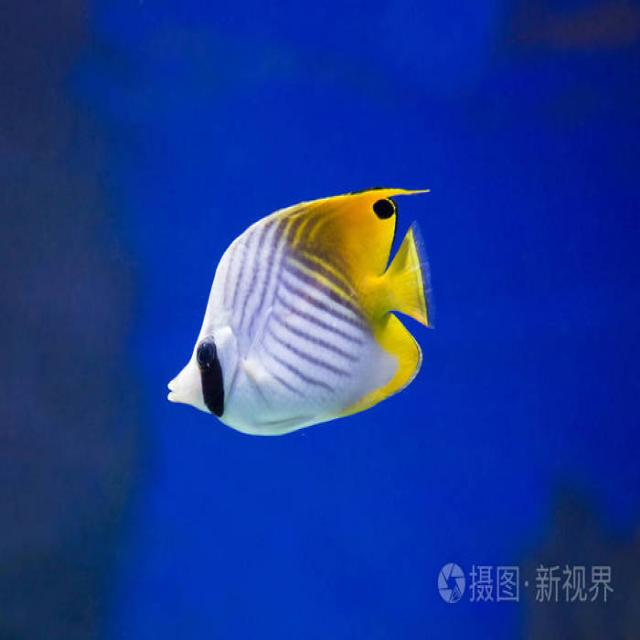ButterflyFish: (168, 185, 438, 435)
